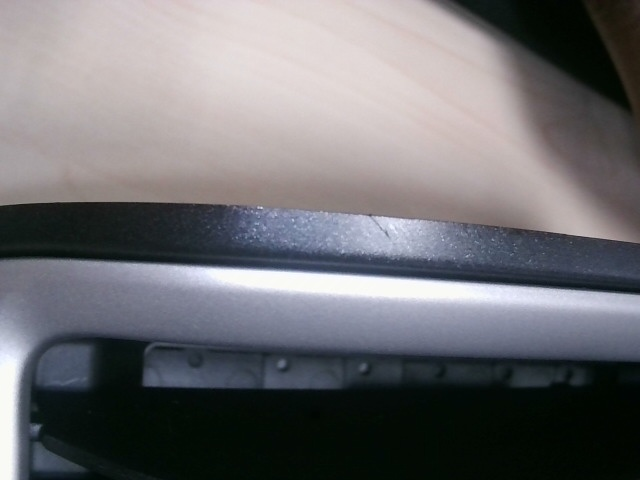NG: (363, 206, 401, 246)
